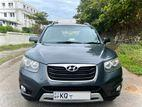car: (19, 22, 123, 103)
